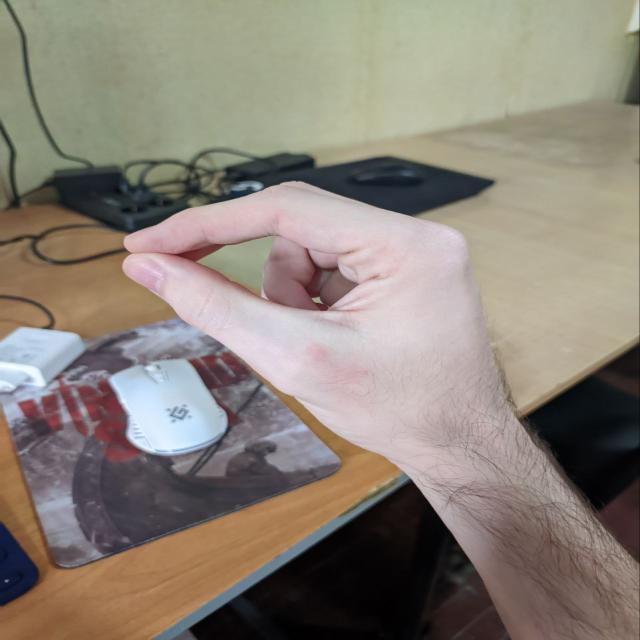ch: (120, 174, 541, 488)
